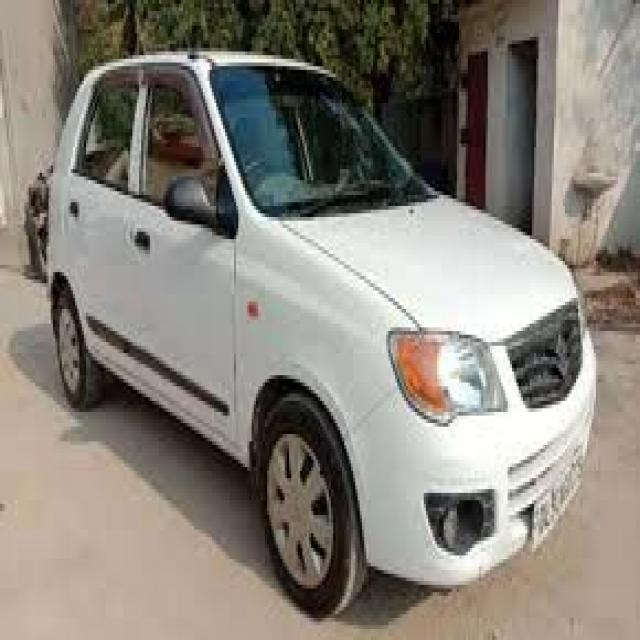car: (28, 37, 604, 607)
